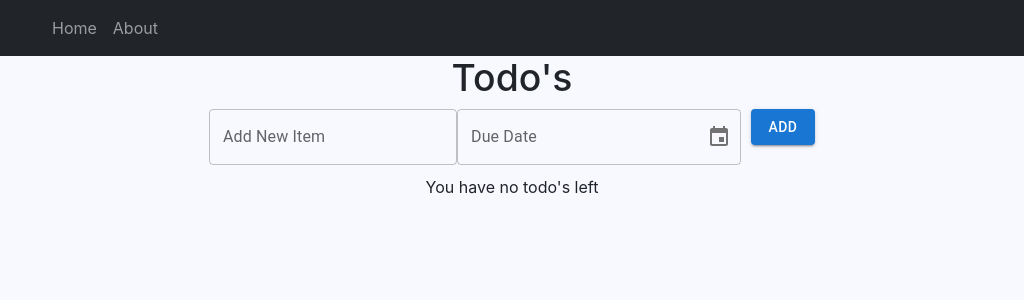
it: App component can be deleted thru checkbox
Type "Test" into the field labelled "Add New Item" at (333, 137), box [209,109,457,165]
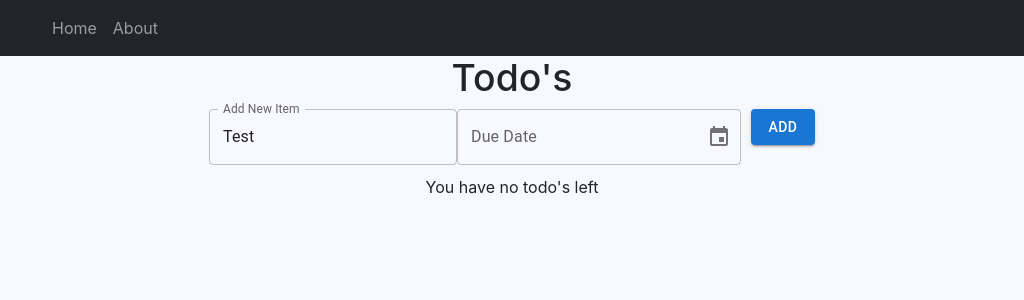
Type "6/30/23" into the field labelled "Due Date" at (574, 137), box [457,109,691,165]
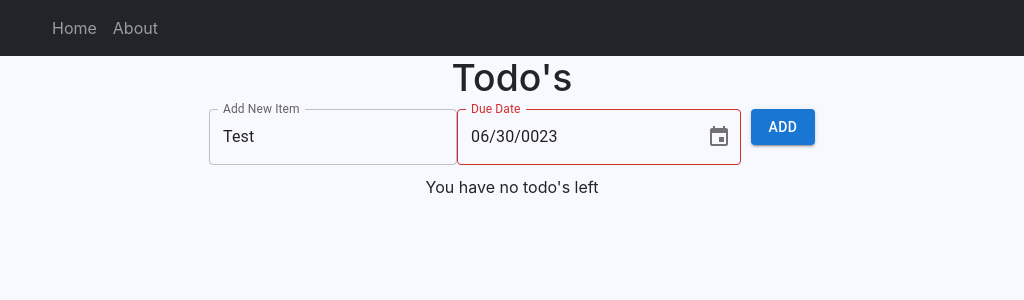
Click the button "Add" at (783, 127), box [751,109,815,145]
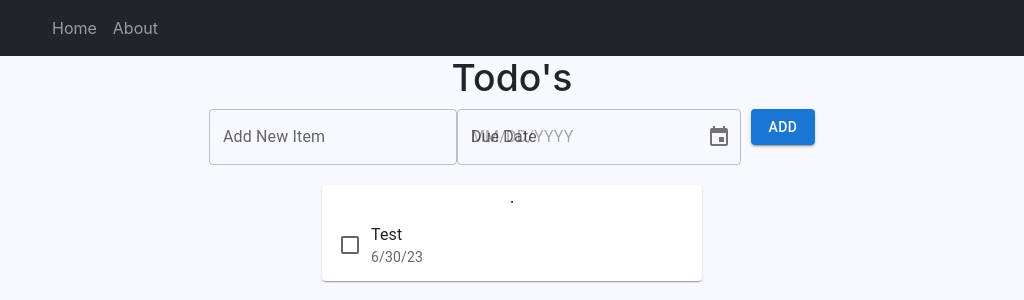
Click the checkbox at (350, 245), box [338,233,362,257]
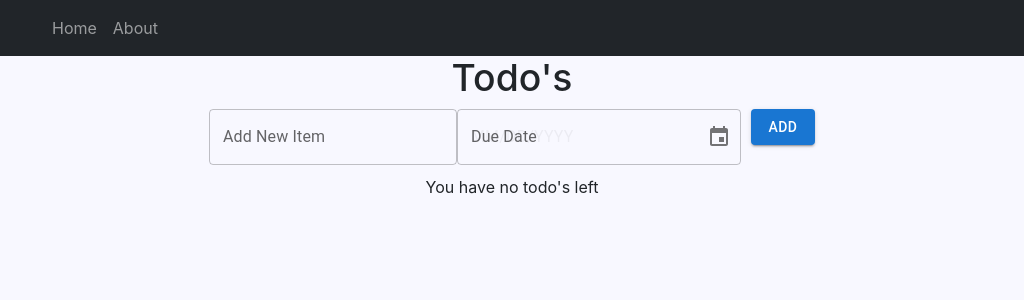
Expected: the text "You have no todo's left" is shown, [426,177,598,197]
